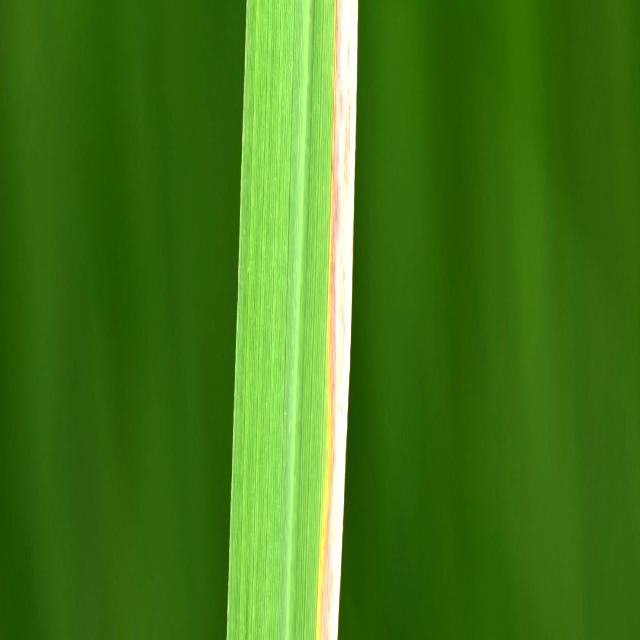BLB: (316, 0, 357, 636)
